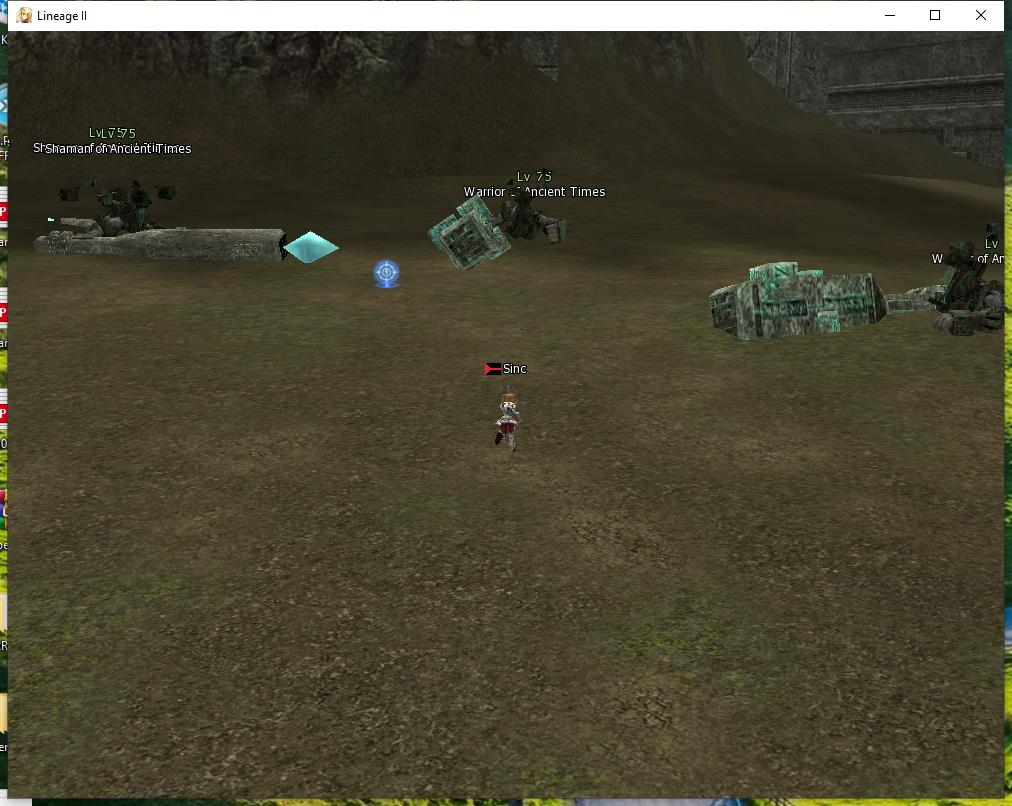monster: (25, 133, 228, 264), (435, 159, 605, 278), (925, 219, 1004, 333)
